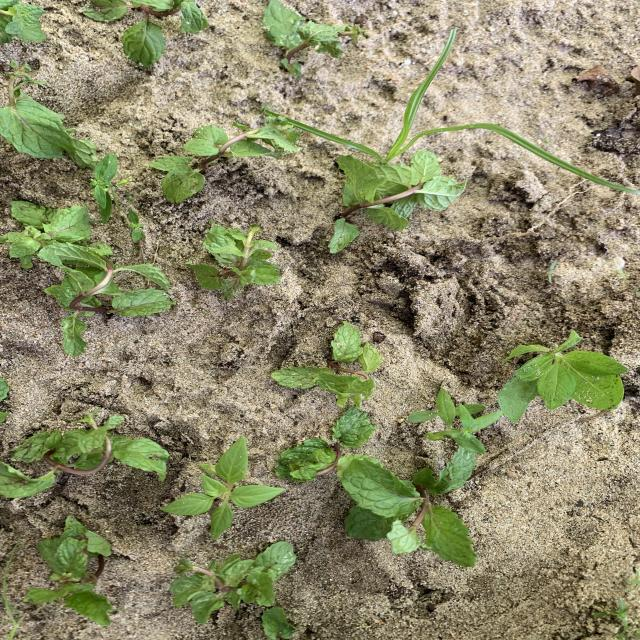crop: (338, 447, 476, 567), (38, 241, 172, 356), (328, 150, 464, 253), (150, 123, 300, 203), (498, 331, 627, 421), (171, 543, 295, 623), (12, 410, 167, 474), (271, 322, 382, 409), (27, 516, 114, 625), (86, 1, 207, 66), (1, 80, 94, 162), (280, 409, 377, 481), (187, 223, 280, 298), (0, 201, 91, 268), (263, 2, 343, 74), (1, 462, 55, 498), (90, 154, 118, 222), (1, 1, 46, 43), (1, 378, 9, 399)
weed: (279, 29, 640, 194), (162, 436, 284, 539), (407, 389, 501, 454), (90, 154, 118, 222), (339, 24, 367, 42), (128, 210, 143, 241), (629, 568, 639, 588), (547, 262, 556, 282), (15, 62, 31, 71)
